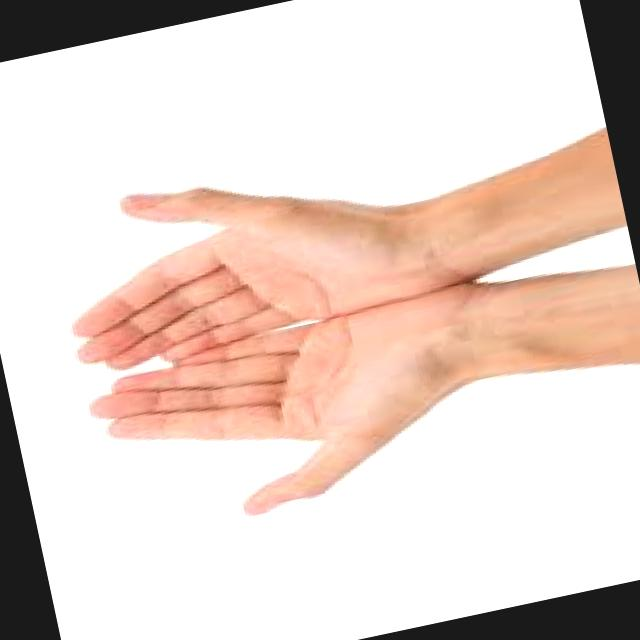Hand: (68, 274, 528, 550), (33, 126, 475, 384)
